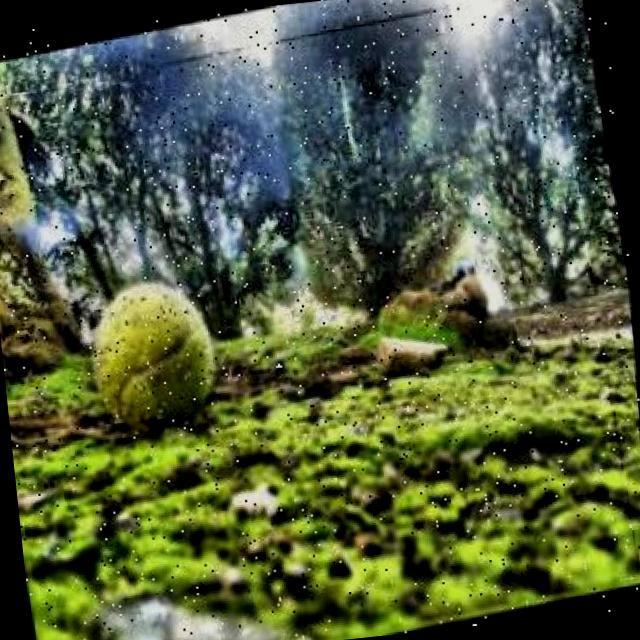Tennis Ball: (80, 267, 234, 441)
